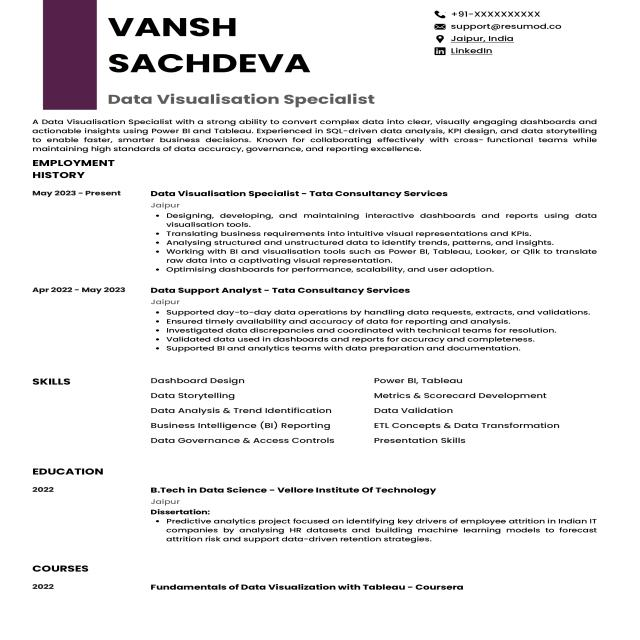contact: (423, 5, 578, 64)
education: (26, 468, 611, 558), (26, 563, 562, 620)
experience: (25, 154, 612, 366)
header: (105, 12, 402, 110)
skills: (26, 372, 591, 466)
summary: (26, 115, 613, 154)
